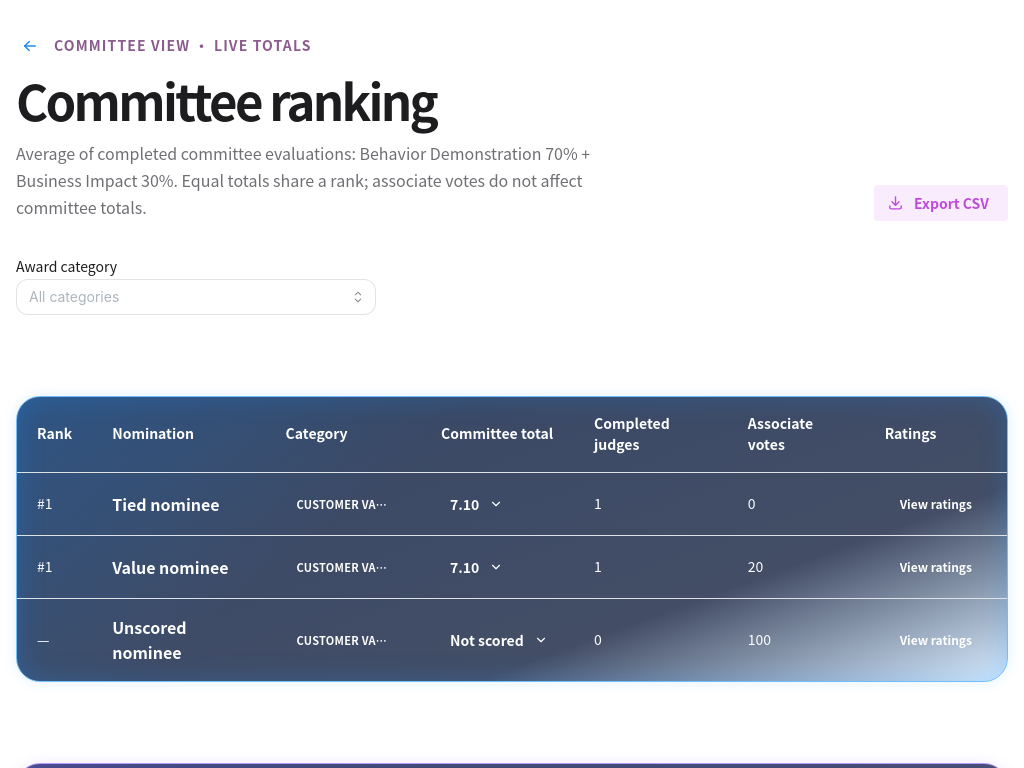
it: expands and collapses criterion scores from the total and keeps partial evaluations incomplete
Click the button "7.10" in the row of "Value nominee": (475,567) [441,554,510,580]
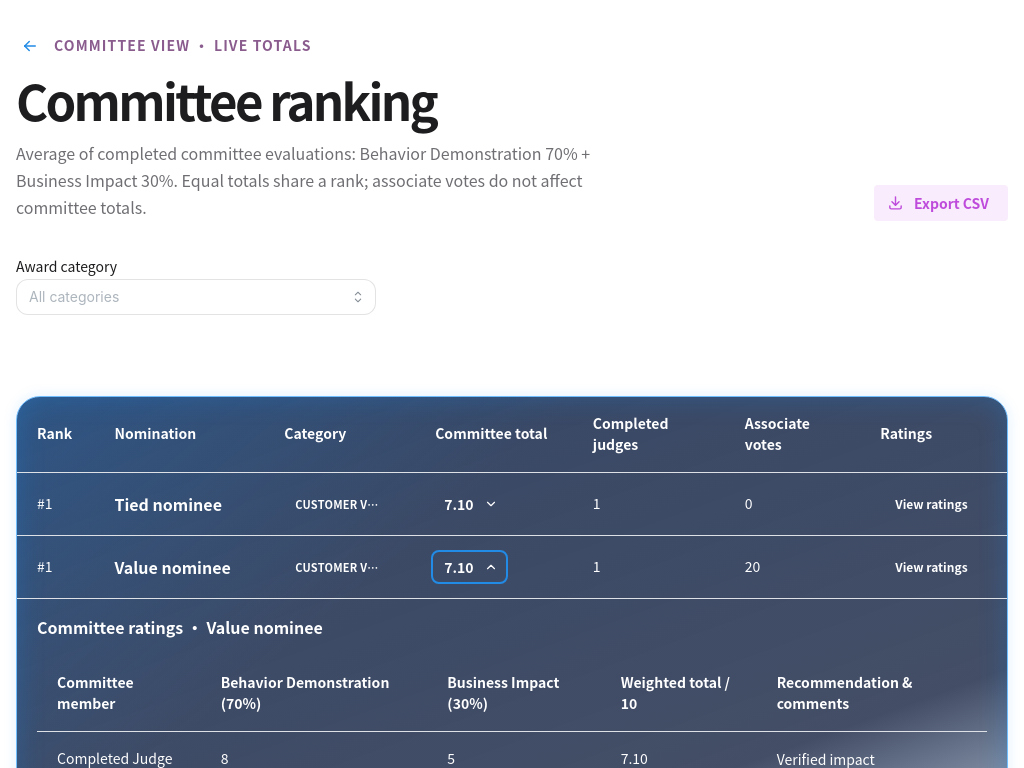
Expected: the column heading "Behavior Demonstration (70%)" is shown, [201,656,427,732]
Expected: the column heading "Business Impact (30%)" is shown, [427,656,601,732]
Expected: the text "7.10" next to "Verified impact" is shown, [621,748,648,767]
Click the button "7.10" in the row of "20": (470,567) [435,554,504,580]
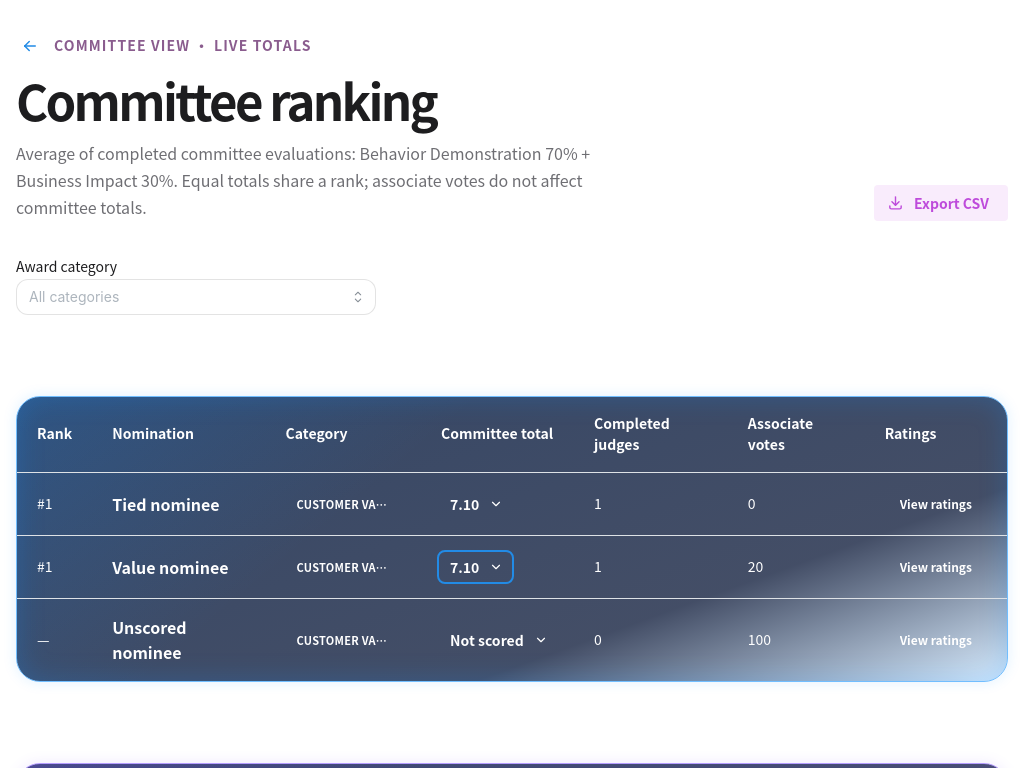
Expected: the text "Committee ratings · Value nominee" is gone
Click the button "View ratings" in the row of "Value nominee": (936,567) [885,552,987,582]
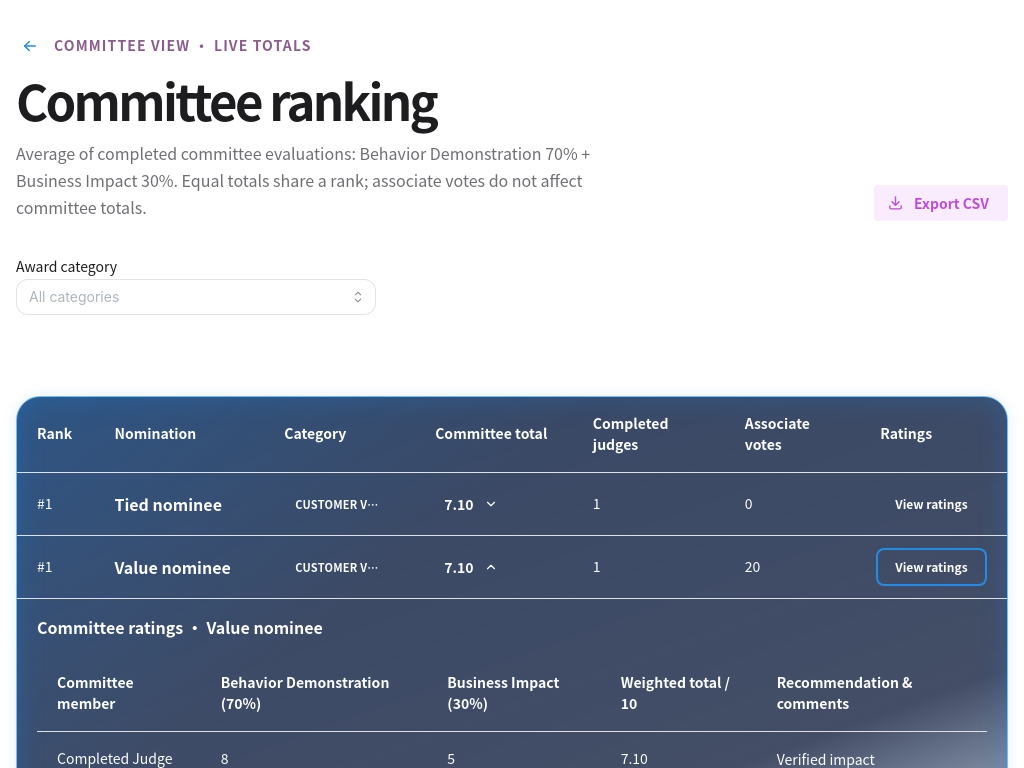
Expected: the button "7.10" in the row of "20" is expanded, [435,554,504,580]
